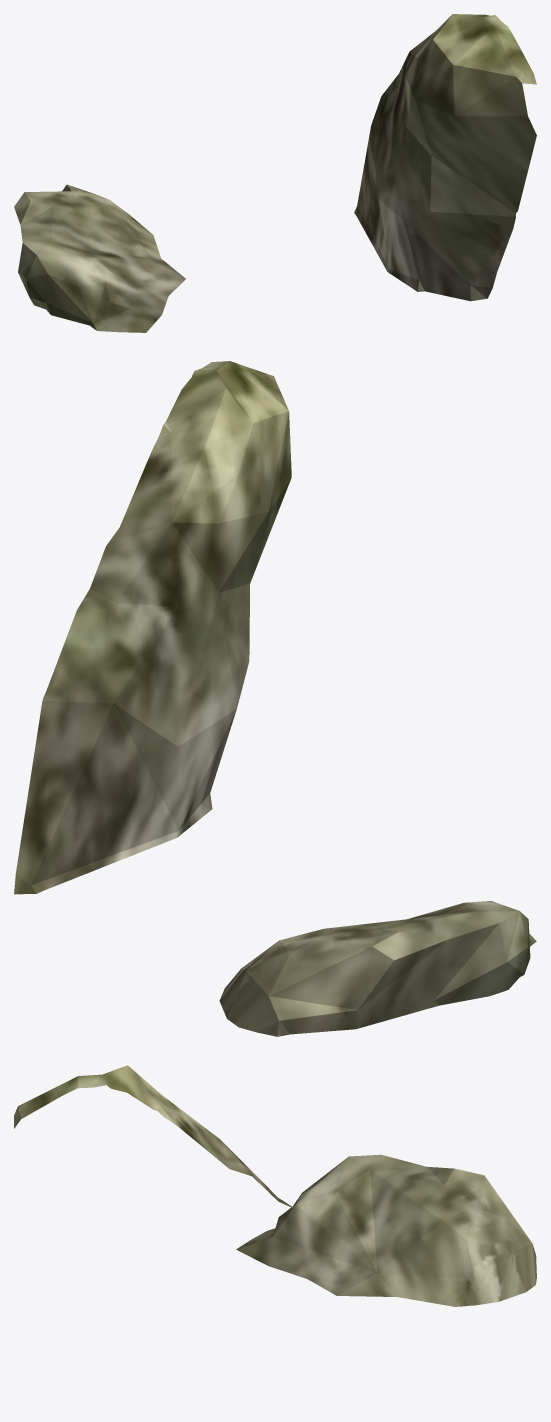
3 renders of one model, top to bottom at view 1: azimuth 30°, elevation 25°; view 2: azimuth 150°, elevation 25°; view 3: azimuth 270°, elevation 25°, orthographic. The views are drawn at different scales.
Bounding box in the file's own units: 1.39 × 1.08 × 1.58.
1 material, 1 textured.
